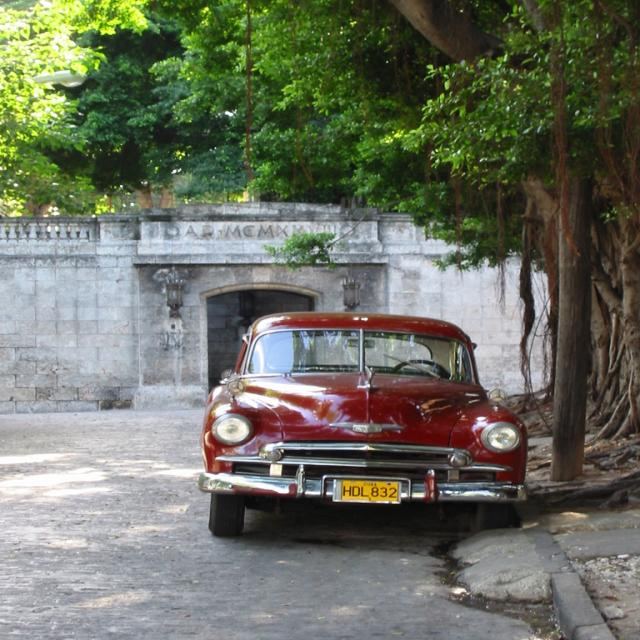car: (200, 315, 534, 533)
